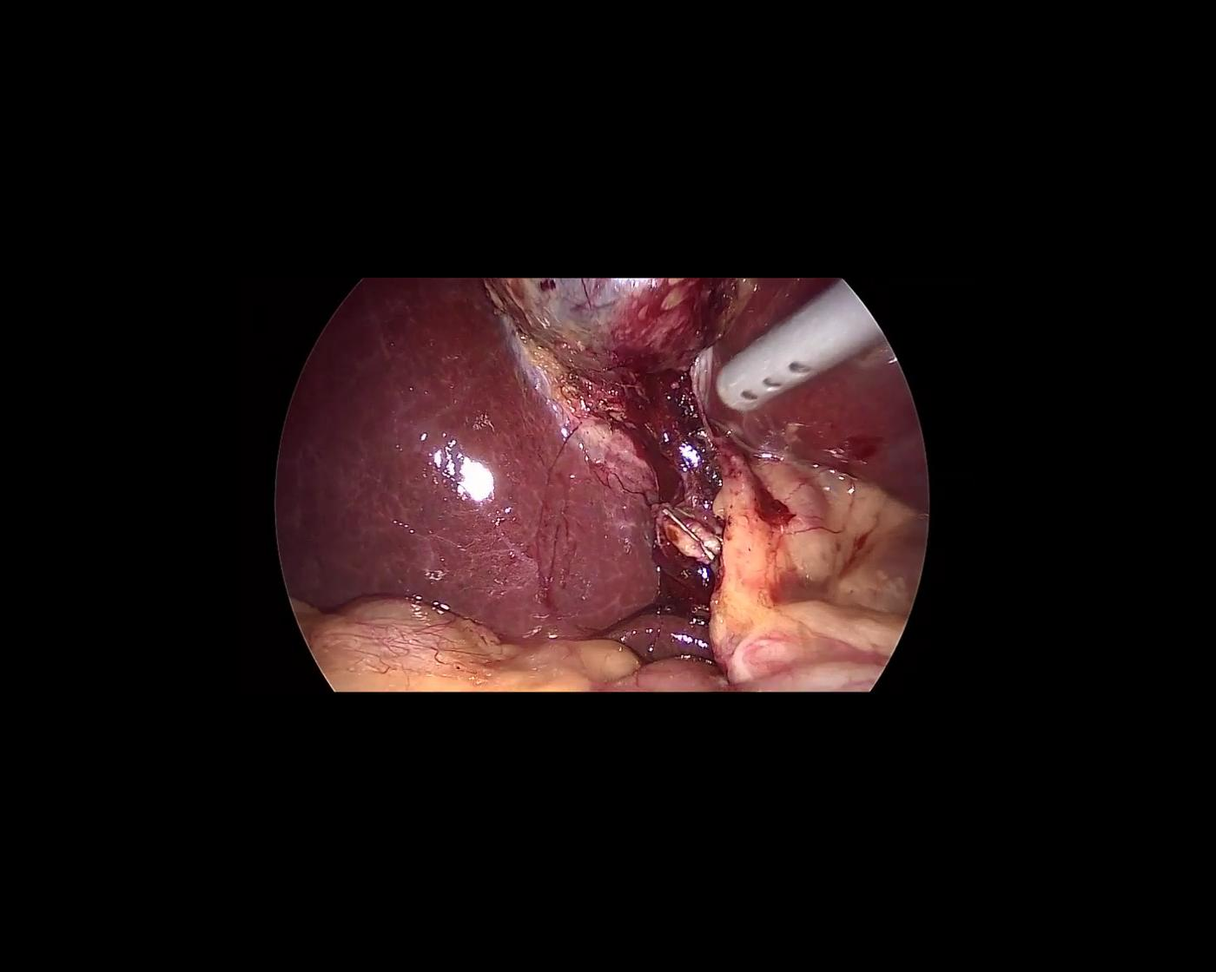Gallbladder: (485, 278, 761, 373)
Liver: (278, 278, 661, 640), (678, 241, 1008, 540)
Suction: (698, 276, 884, 424)
